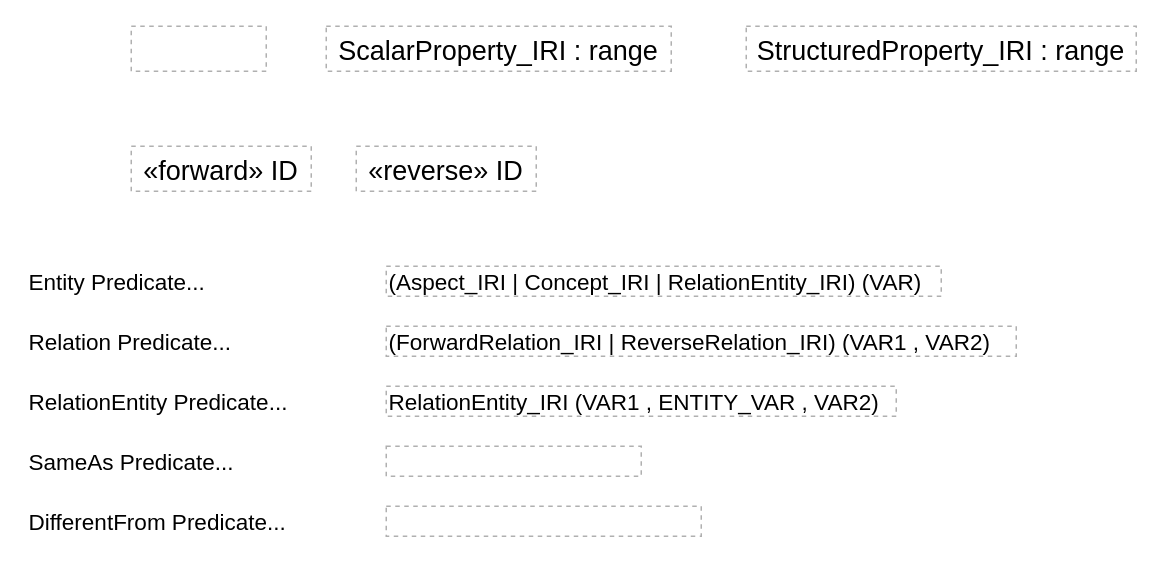
Some shapes in this 1163 by 563 pixel diagram are drawn without their labels. The shapes that lost their labels are listed below. From the top down, each one's centre as x and y in pixels, then its label:
point (198, 48): ID : range
point (513, 460): sameAs (VAR1 , VAR2)
point (543, 520): differentFrom (VAR1 , VAR2)
